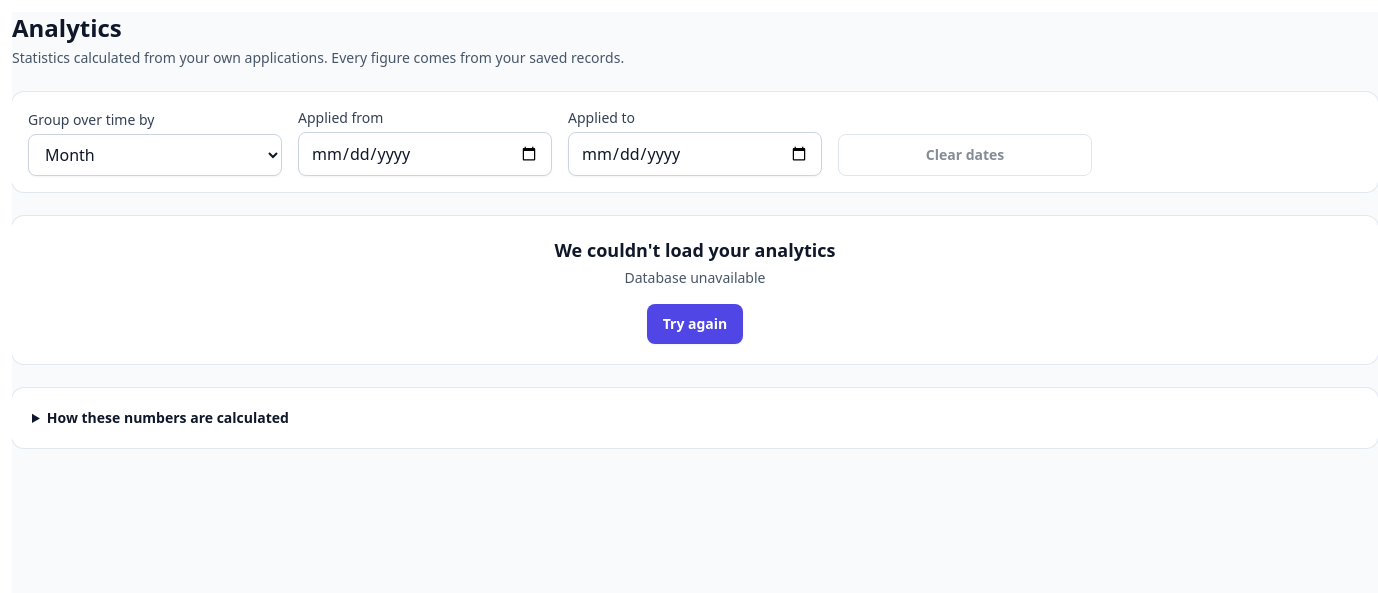
AnalyticsPage › shows an error with a retry
Expected: the message shows "Database unavailable", [624,268,766,287]
Click the button "Try again".
click(695, 324)  # box [647,304,743,344]
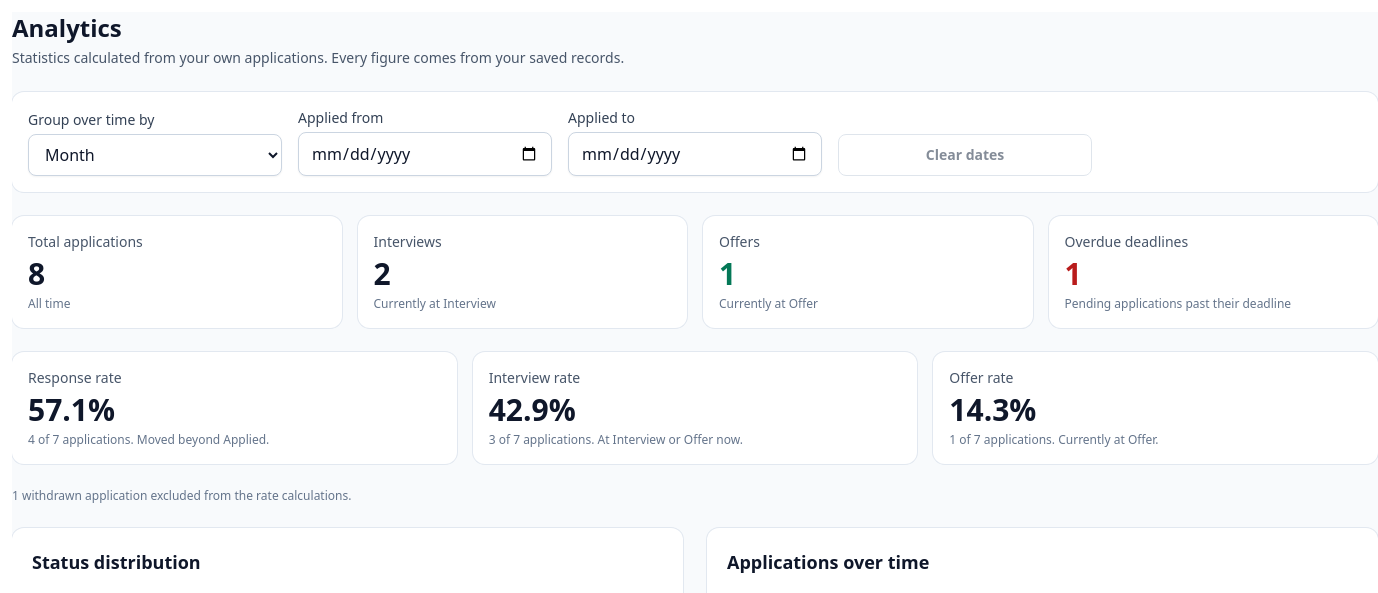
Now the element named "Key numbers" is shown, box [12,216,1377,328]
